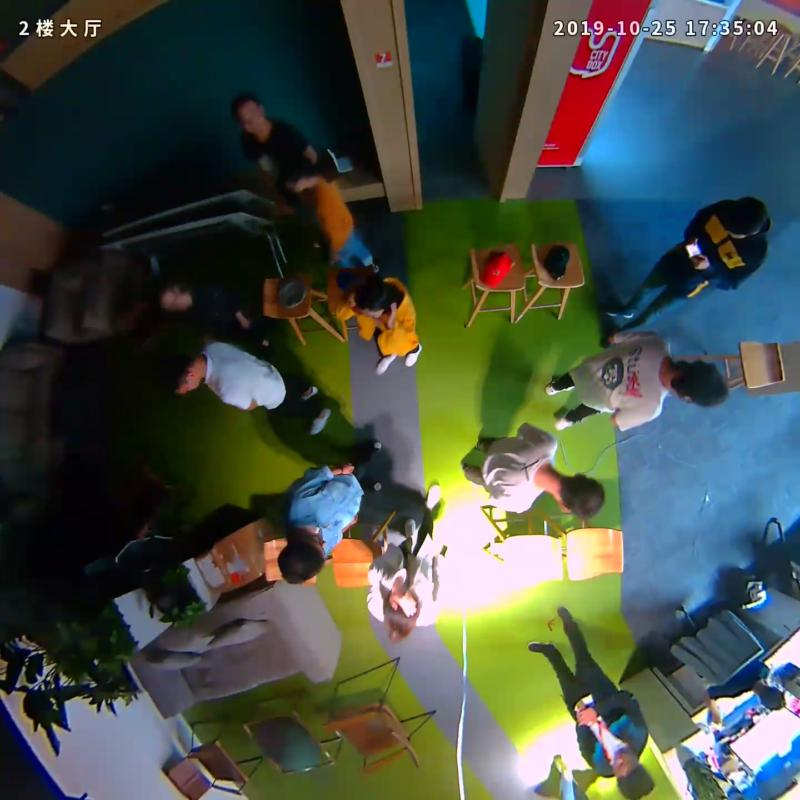head: (277, 526, 326, 586), (673, 359, 731, 407), (614, 745, 658, 800), (559, 473, 605, 519), (383, 588, 421, 640), (720, 197, 767, 239), (350, 277, 391, 319), (151, 276, 193, 316), (162, 353, 202, 393), (231, 92, 267, 135)
